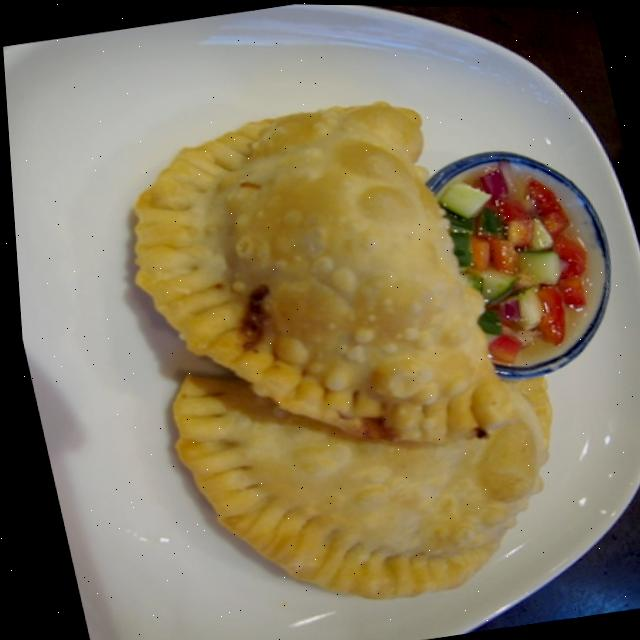炸货点心: (62, 29, 640, 640)
